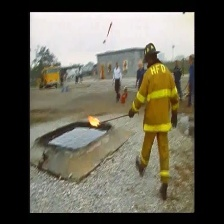fire: (86, 112, 101, 126)
